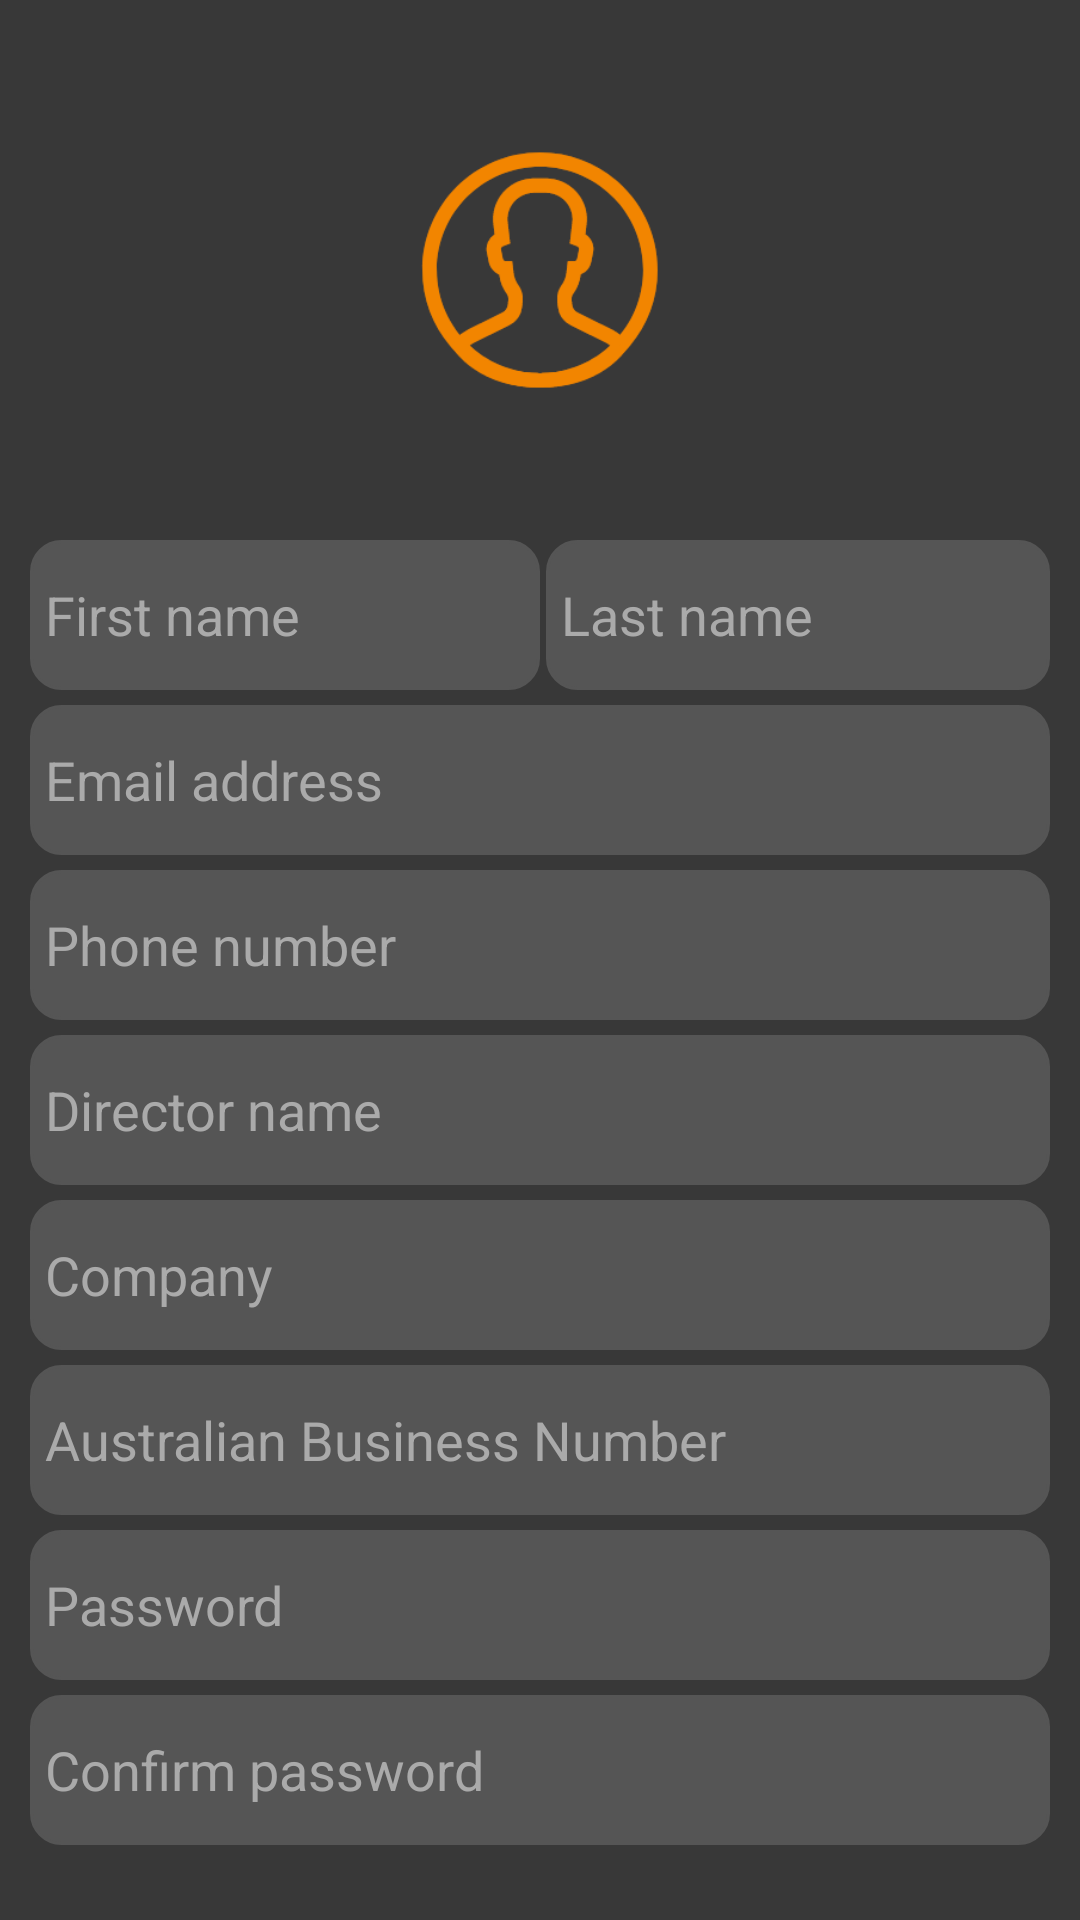

Icons on this 1080 × 1920 Android screen, each with the point to tap as point (x, y):
user: point (540, 270)
